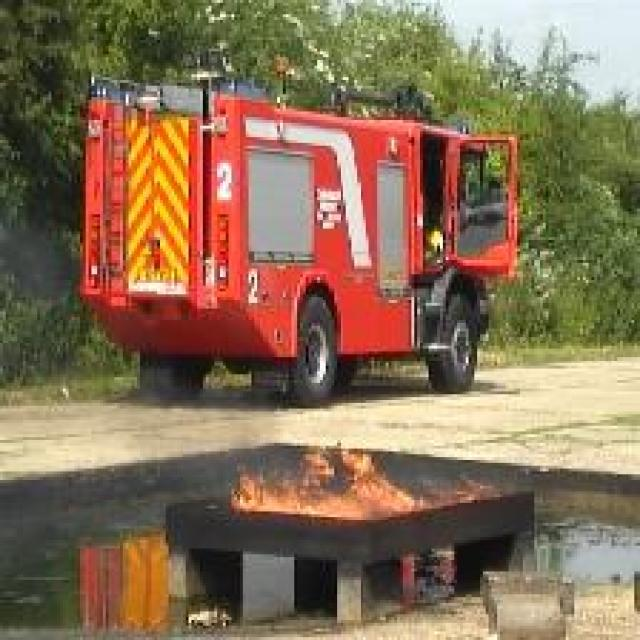fire: (215, 447, 496, 519)
